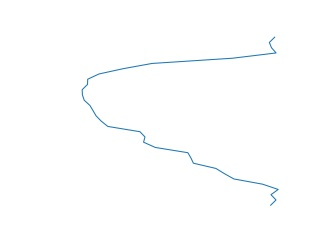mouthBar: (76, 38, 284, 209)
